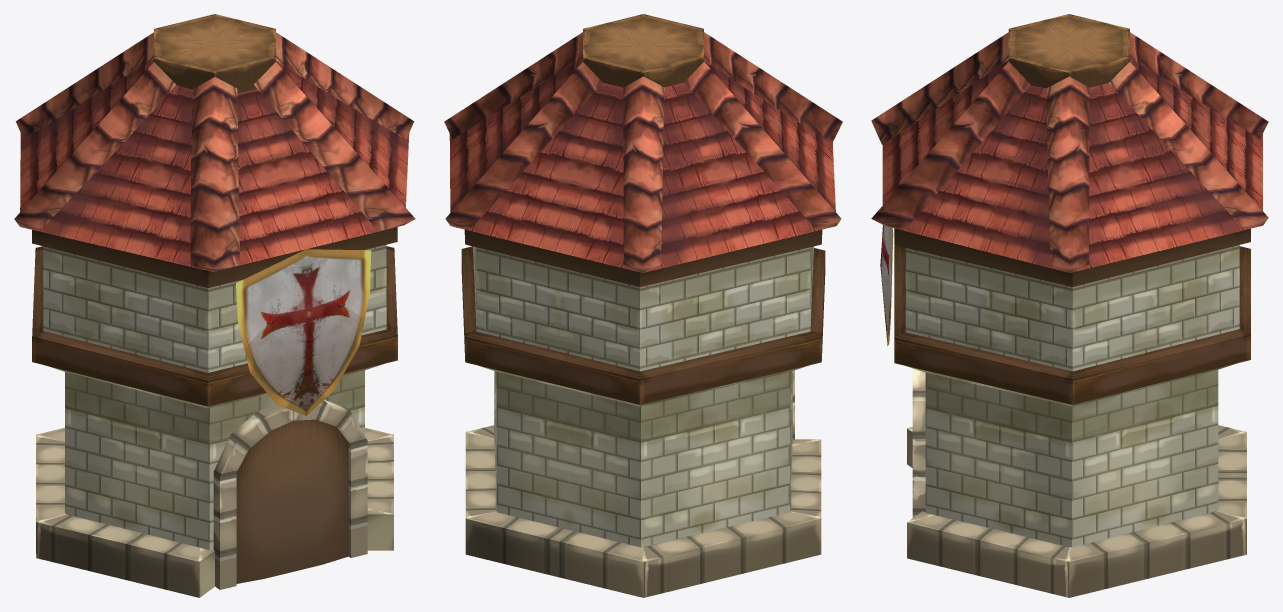
The model's file is TemplarBarracks.fbx.
3 renders of one model, left to right at view 1: azimuth 30°, elevation 25°; view 2: azimuth 150°, elevation 25°; view 3: azimuth 270°, elevation 25°, orthographic.
Parts seen in each view (by area): view 1: TemplarBarracks_Geo; view 2: TemplarBarracks_Geo; view 3: TemplarBarracks_Geo.
Boxes of the visible parts, x1,y1,x2,y2 form: TemplarBarracks_Geo: (14, 14, 415, 597); TemplarBarracks_Geo: (444, 14, 842, 597); TemplarBarracks_Geo: (871, 14, 1268, 597).
Bounding box in the file's own units: 1359 × 1528 × 1177.
